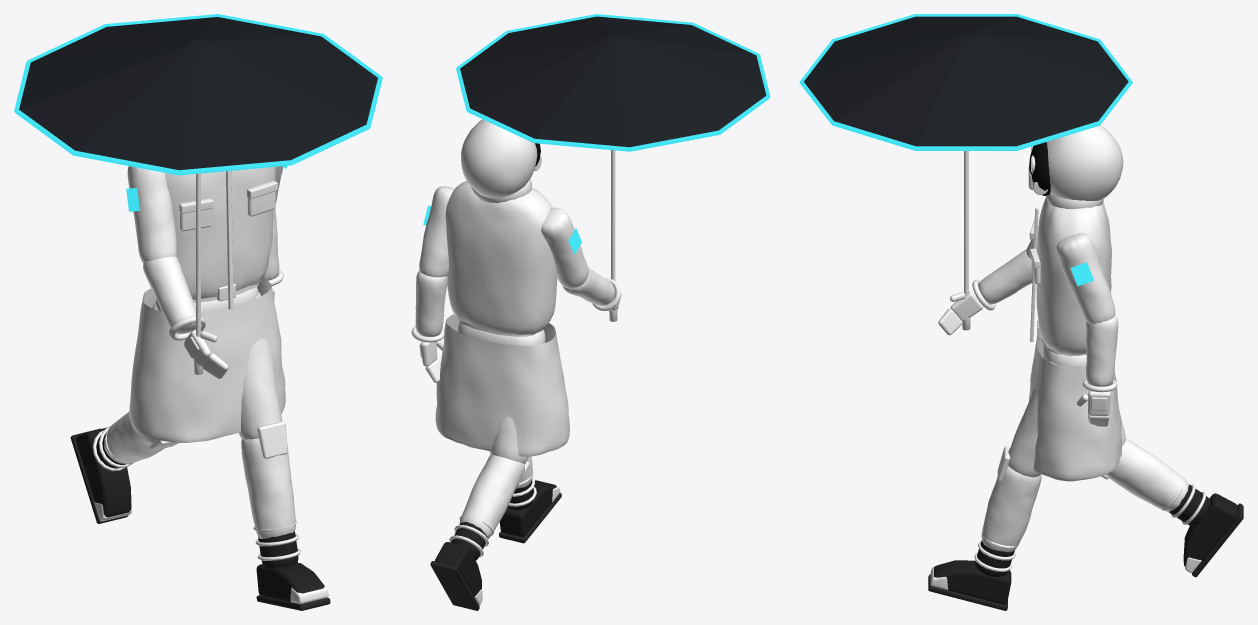
File: npc_raincoat.glb
3 renders of one model, left to right at view 1: azimuth 30°, elevation 25°; view 2: azimuth 150°, elevation 25°; view 3: azimuth 270°, elevation 25°, orthographic. The views are drawn at different scales.
Parts seen in each view (by area): view 1: umbrella_canopy, skirt, jacket, umbrella_rim, shin, sleeve_upper.001, thigh, sleeve_lower.001, boot.001, boot, shin.001, boot_shaft (+9 smaller); view 2: umbrella_canopy, jacket, skirt, hood, umbrella_rim, shin.001, sleeve_upper.001, sleeve_upper, sleeve_lower, boot, boot.001, boot_sole.001 (+5 smaller); view 3: umbrella_canopy, skirt, jacket, hood, shin, umbrella_rim, shin.001, sleeve_upper, boot, boot.001, sleeve_lower, sleeve_lower.001 (+5 smaller).
Boxes of the visible parts, left/top/right/bottom form: umbrella_canopy: left=19, top=17, right=377, bottom=170; skirt: left=129, top=276, right=285, bottom=442; jacket: left=149, top=167, right=275, bottom=299; umbrella_rim: left=14, top=14, right=382, bottom=175; shin: left=241, top=438, right=295, bottom=538; sleeve_upper.001: left=127, top=166, right=176, bottom=263; thigh: left=239, top=292, right=282, bottom=439; sleeve_lower.001: left=143, top=256, right=195, bottom=333; boot.001: left=75, top=427, right=131, bottom=517; boot: left=256, top=562, right=324, bottom=603; shin.001: left=104, top=412, right=164, bottom=463; boot_shaft: left=258, top=531, right=298, bottom=568; umbrella_canopy: left=460, top=16, right=766, bottom=147; jacket: left=445, top=181, right=557, bottom=336; skirt: left=435, top=314, right=569, bottom=456; hood: left=461, top=119, right=537, bottom=198; umbrella_rim: left=456, top=14, right=770, bottom=151; shin.001: left=459, top=455, right=524, bottom=538; sleeve_upper.001: left=541, top=207, right=589, bottom=288; sleeve_upper: left=419, top=186, right=454, bottom=277; sleeve_lower: left=415, top=270, right=447, bottom=336; boot: left=499, top=480, right=556, bottom=537; boot.001: left=435, top=542, right=481, bottom=596; boot_sole.001: left=430, top=561, right=479, bottom=610; umbrella_canopy: left=804, top=16, right=1128, bottom=146; skirt: left=1029, top=336, right=1121, bottom=481; jacket: left=1036, top=197, right=1111, bottom=356; hood: left=1046, top=125, right=1123, bottom=200; shin: left=981, top=466, right=1041, bottom=552; umbrella_rim: left=799, top=14, right=1132, bottom=150; shin.001: left=1106, top=438, right=1188, bottom=511; sleeve_upper: left=1056, top=233, right=1115, bottom=323; boot: left=934, top=560, right=1011, bottom=604; boot.001: left=1183, top=493, right=1237, bottom=570; sleeve_lower: left=1086, top=315, right=1118, bottom=386; sleeve_lower.001: left=978, top=249, right=1032, bottom=304.
Bounding box in the file's own units: 1.09 × 1.98 × 1.51.
